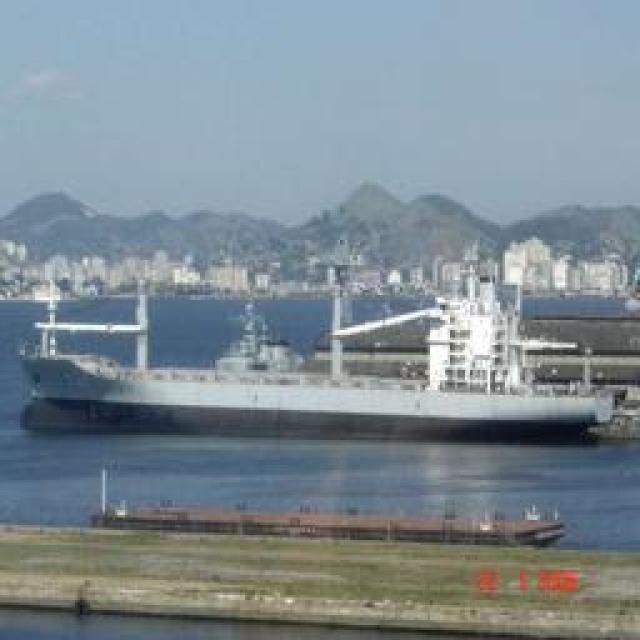ship2: (23, 264, 614, 444)
